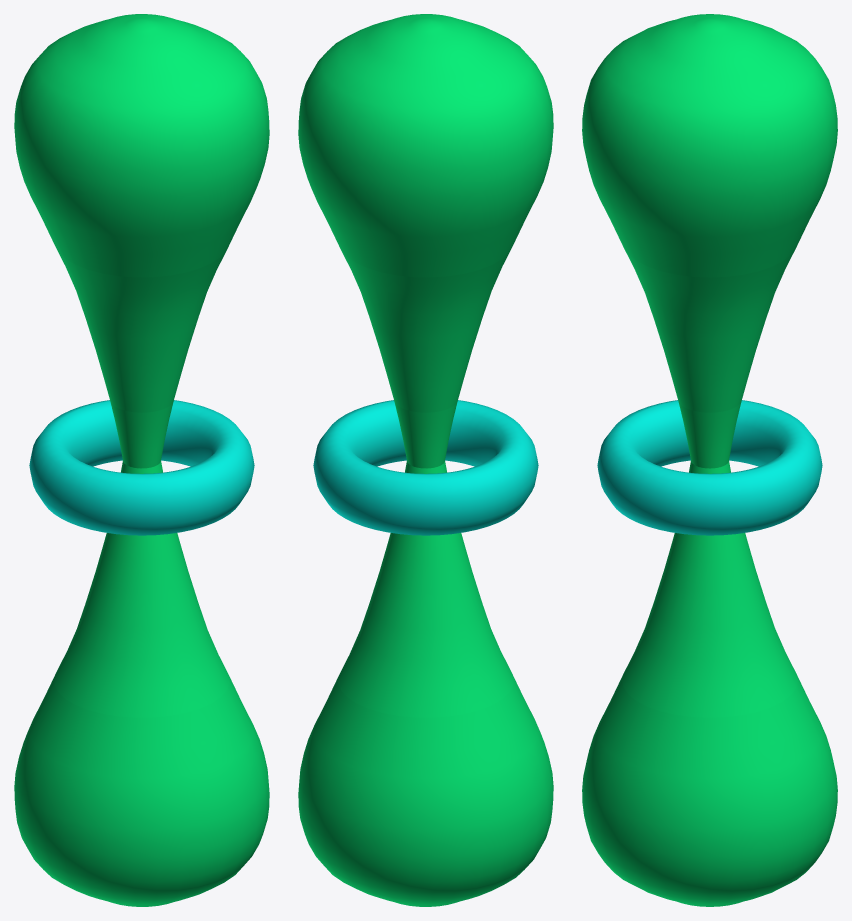
Rendered from orbital d.fbx.
3 renders of one model, left to right at view 1: azimuth 30°, elevation 25°; view 2: azimuth 150°, elevation 25°; view 3: azimuth 270°, elevation 25°, orthographic.
Parts seen in each view (by area): view 1: Torus; view 2: Torus; view 3: Torus.
Boxes of the visible parts, x1,y1,x2,y2 form: Torus: [14, 14, 269, 906]; Torus: [298, 14, 553, 906]; Torus: [582, 14, 837, 906].
Bounding box in the file's own units: 3.99 × 15.08 × 3.99.
